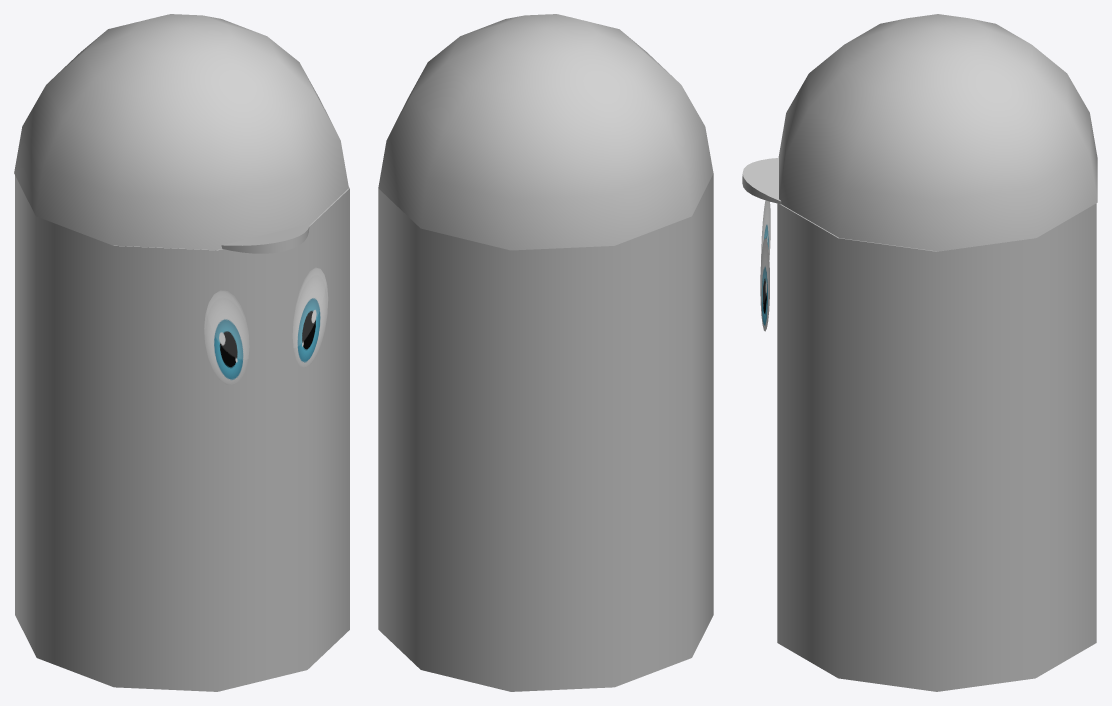
File: yellow.fbx
3 views of the same model, side by side, from view 1: azimuth 30°, elevation 25°; view 2: azimuth 150°, elevation 25°; view 3: azimuth 270°, elevation 25° (orthographic).
Visible parts, largest first — view 1: Capsule001.003, Object.003, Cylinder001.003, Cylinder002.003, Arc001.003; view 2: Capsule001.003, Object.003; view 3: Capsule001.003, Object.003, Arc001.003, Cylinder002.003.
Boxes of the visible parts, box(x1,y1,x2,y2) form: Capsule001.003: box(15, 175, 349, 691); Object.003: box(14, 14, 348, 250); Cylinder001.003: box(204, 290, 249, 384); Cylinder002.003: box(292, 267, 328, 367); Arc001.003: box(221, 223, 309, 253); Capsule001.003: box(378, 173, 713, 691); Object.003: box(378, 14, 713, 250); Capsule001.003: box(777, 203, 1096, 691); Object.003: box(778, 14, 1097, 251); Arc001.003: box(742, 158, 781, 204); Cylinder002.003: box(760, 238, 769, 331).
Size of the model in its own units: 60.08 by 117 by 63.51.
